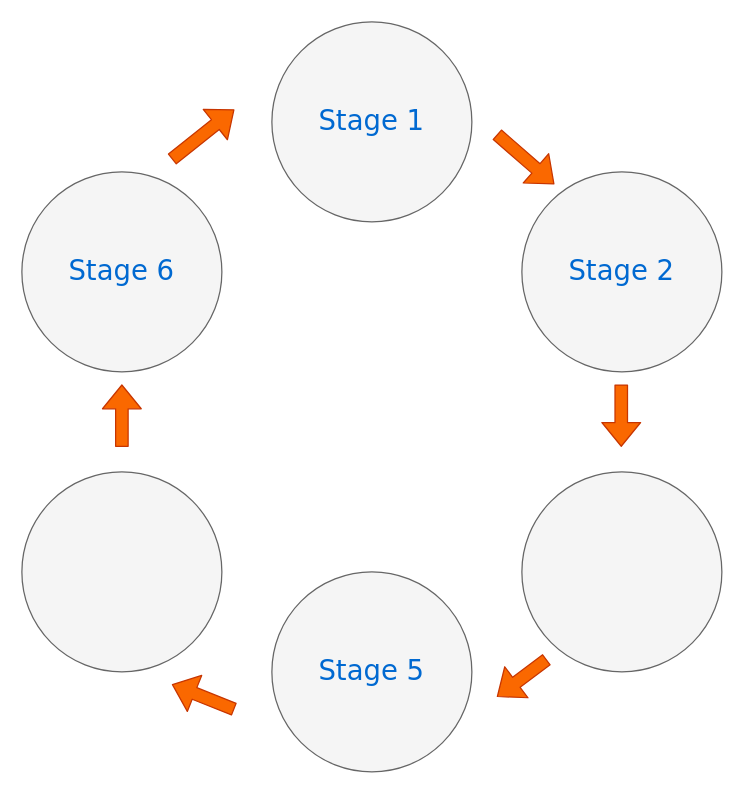
Image size: 744x794. Some labels were removed from this diagram. The box of each missing label's shape, as (x1, y1, x2, y2) in pixels:
Stage 3: (521, 471, 722, 672)
Stage 4: (21, 471, 222, 672)
